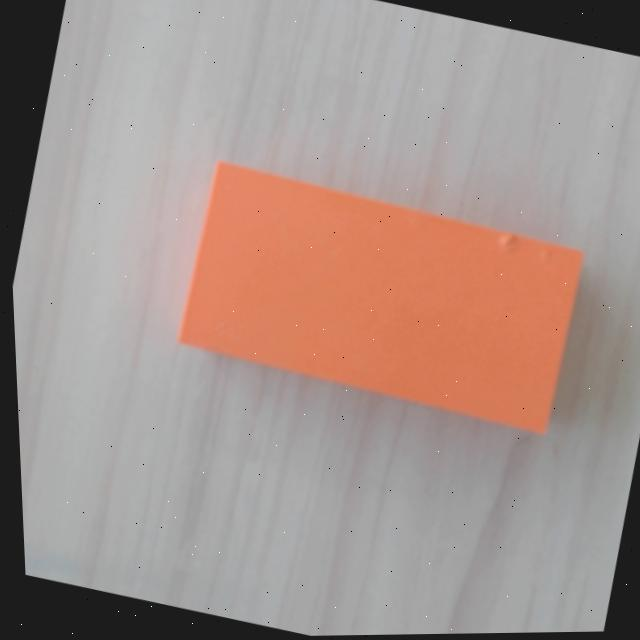Balok-Jingga-1005025: (172, 159, 590, 434)
